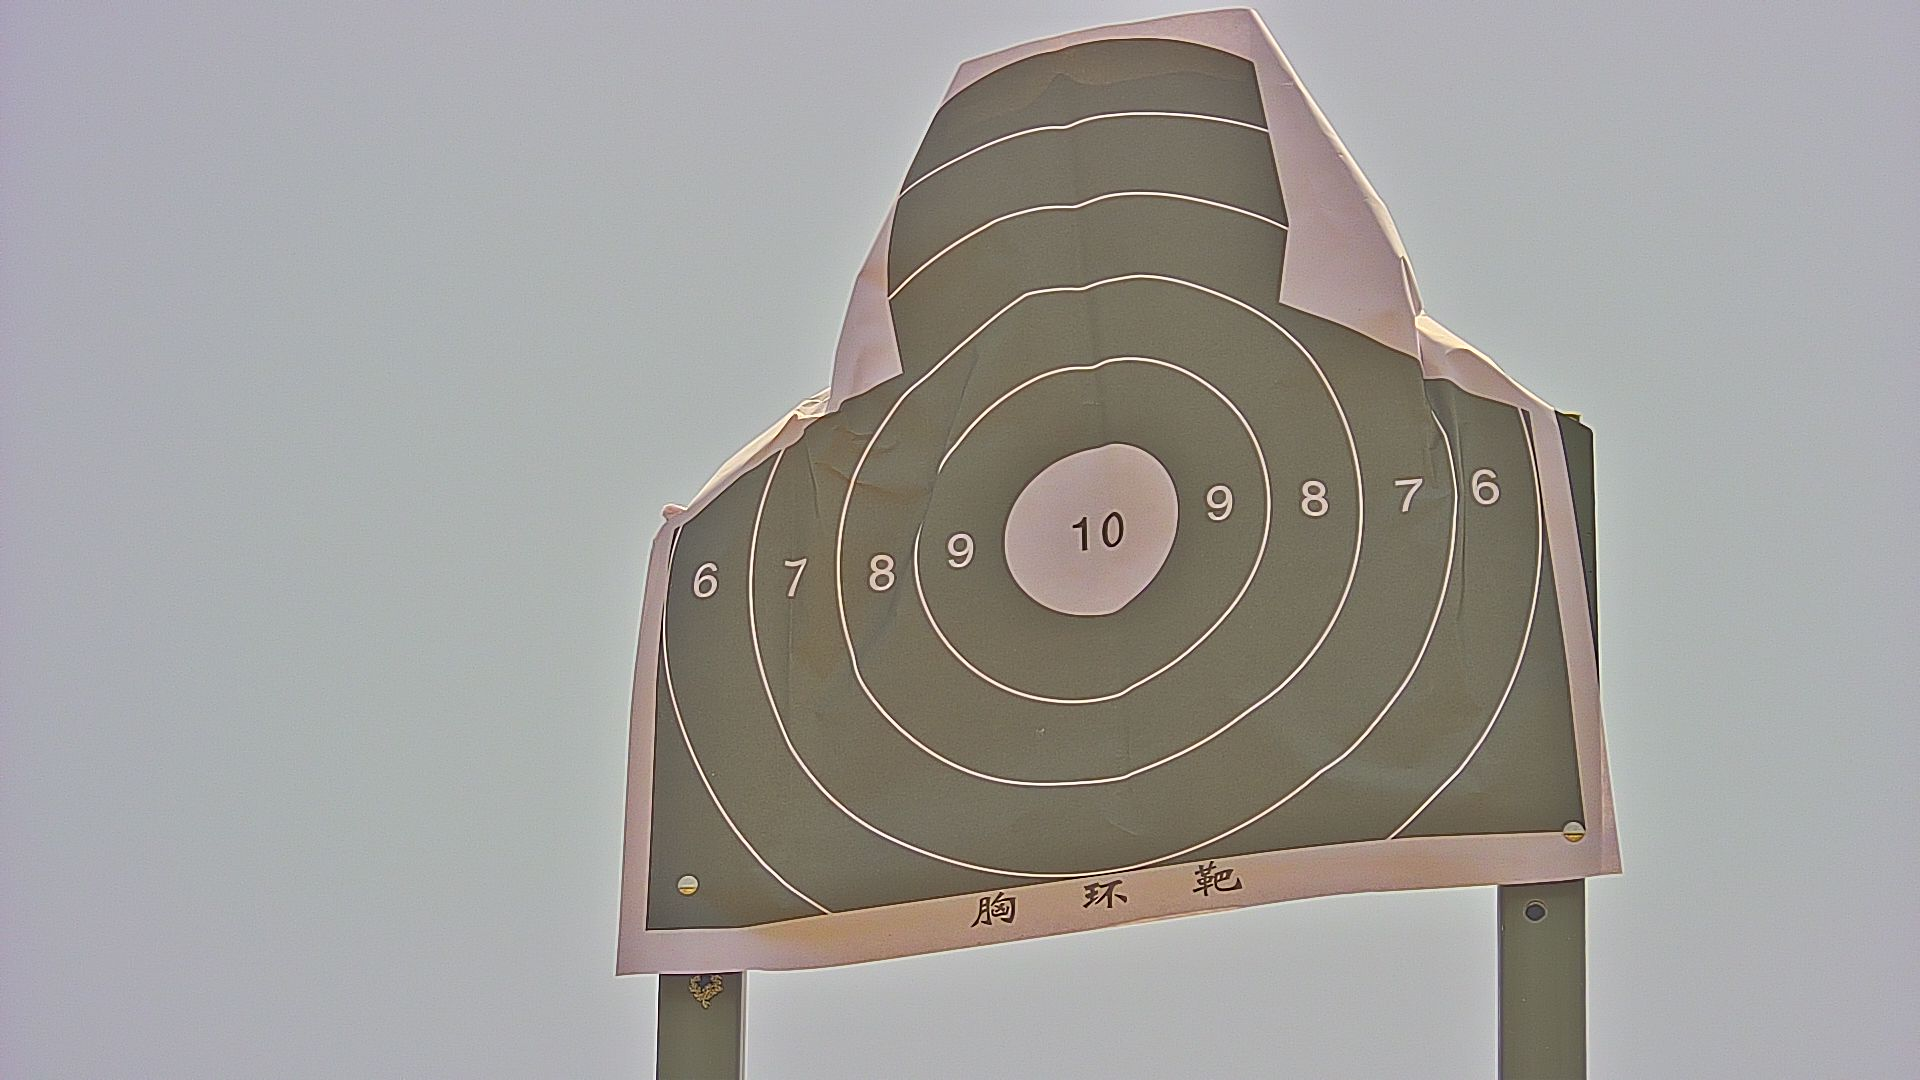kernel: (1095, 530, 1097, 535)
target: (642, 37, 1582, 934)
ten: (1001, 442, 1182, 618)
